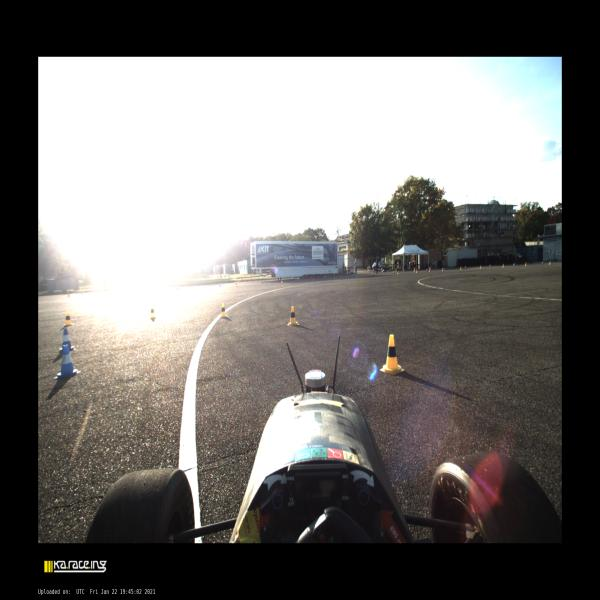blue_cone: (53, 344, 81, 380), (58, 327, 76, 352), (219, 282, 221, 287), (464, 266, 467, 269), (513, 262, 515, 266), (489, 264, 491, 268), (426, 268, 428, 272), (542, 261, 544, 265), (393, 270, 395, 274), (261, 280, 263, 284), (297, 278, 299, 282), (324, 275, 326, 279), (372, 272, 374, 276)
large_orange_cone: (413, 267, 416, 272), (429, 266, 431, 272)
yellow_cone: (380, 334, 404, 375), (287, 306, 300, 326), (64, 310, 75, 326), (219, 302, 229, 318), (149, 306, 157, 320), (502, 263, 505, 268), (397, 270, 399, 276), (479, 265, 482, 269), (235, 281, 237, 287), (281, 278, 283, 284), (333, 275, 336, 279), (416, 269, 418, 274), (312, 276, 314, 281), (442, 268, 444, 272), (460, 266, 462, 270), (525, 262, 527, 266), (549, 261, 551, 265)
